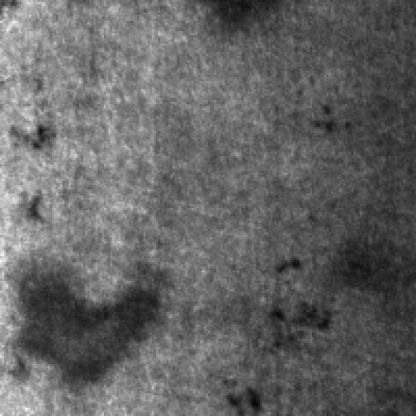patches: (19, 260, 168, 387)
